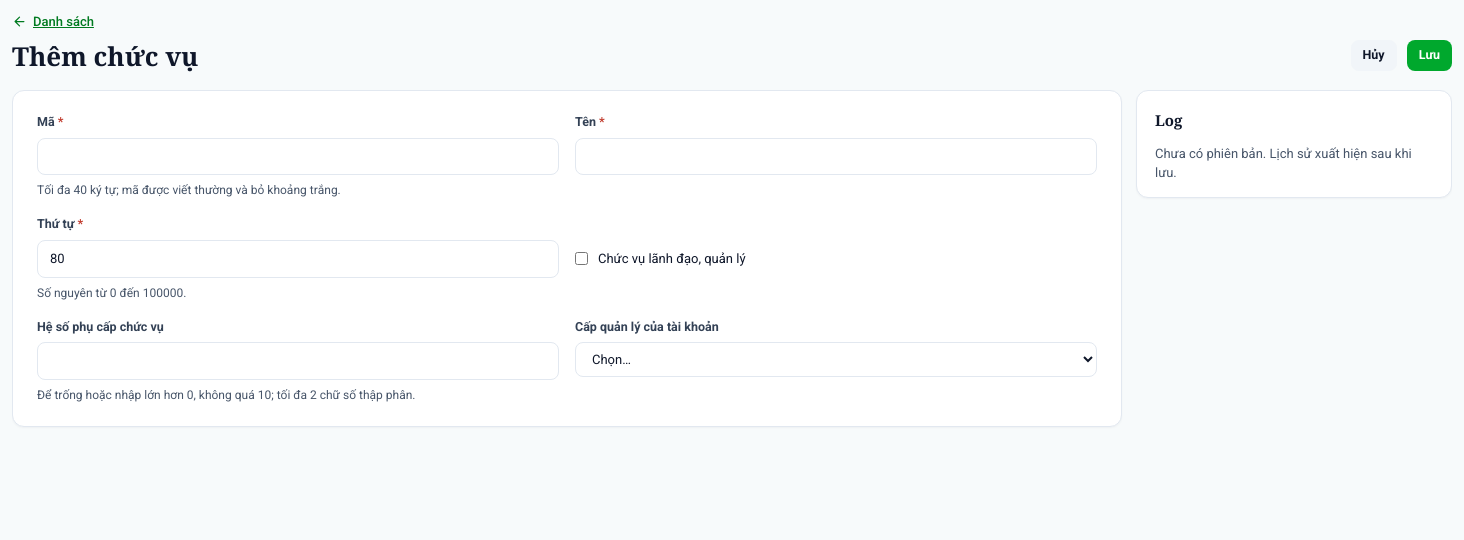
Test: FN-19: route thêm/sửa/chi tiết và quyền từ server › retry sau 500 dùng cùng khóa; lỗi theo trường server gắn vào ô
Type "moi" into the field labelled "Mã *".
click(298, 157); type("moi")  # box [37, 138, 559, 175]
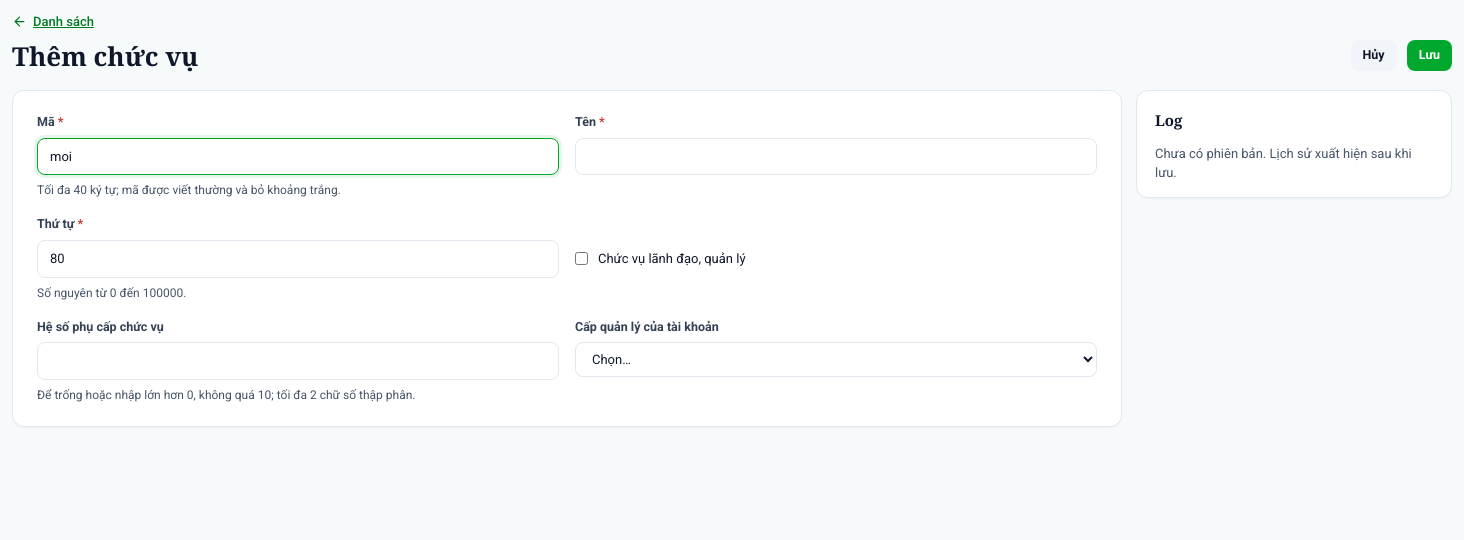
Type "Mục mới" into the field labelled "Tên *".
click(836, 157); type("Mục mới")  # box [575, 138, 1097, 175]
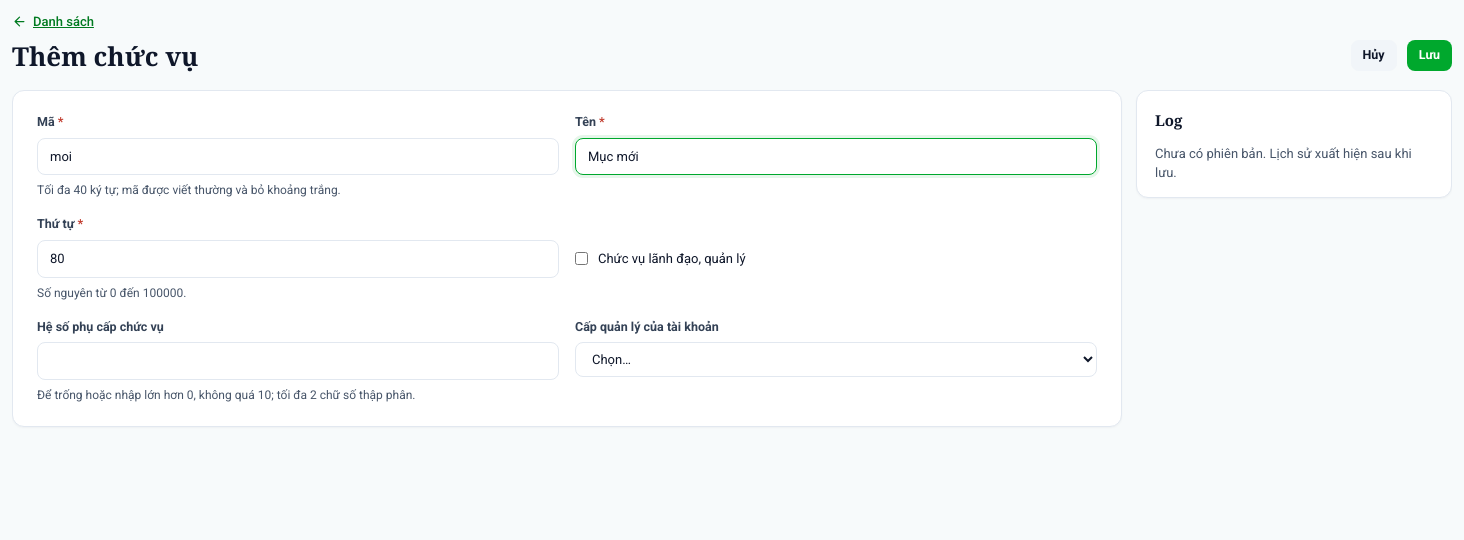
Click the button "Lưu".
click(1429, 56)  # box [1407, 40, 1452, 71]
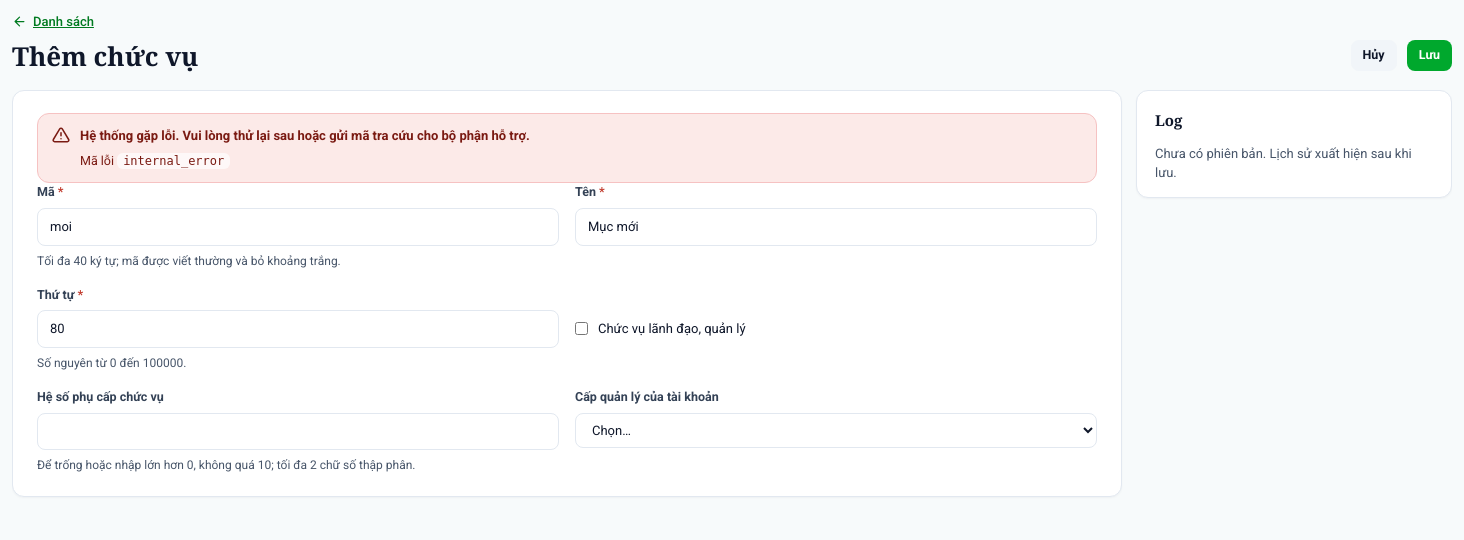
Click the button "Lưu".
click(1429, 56)  # box [1407, 40, 1452, 71]
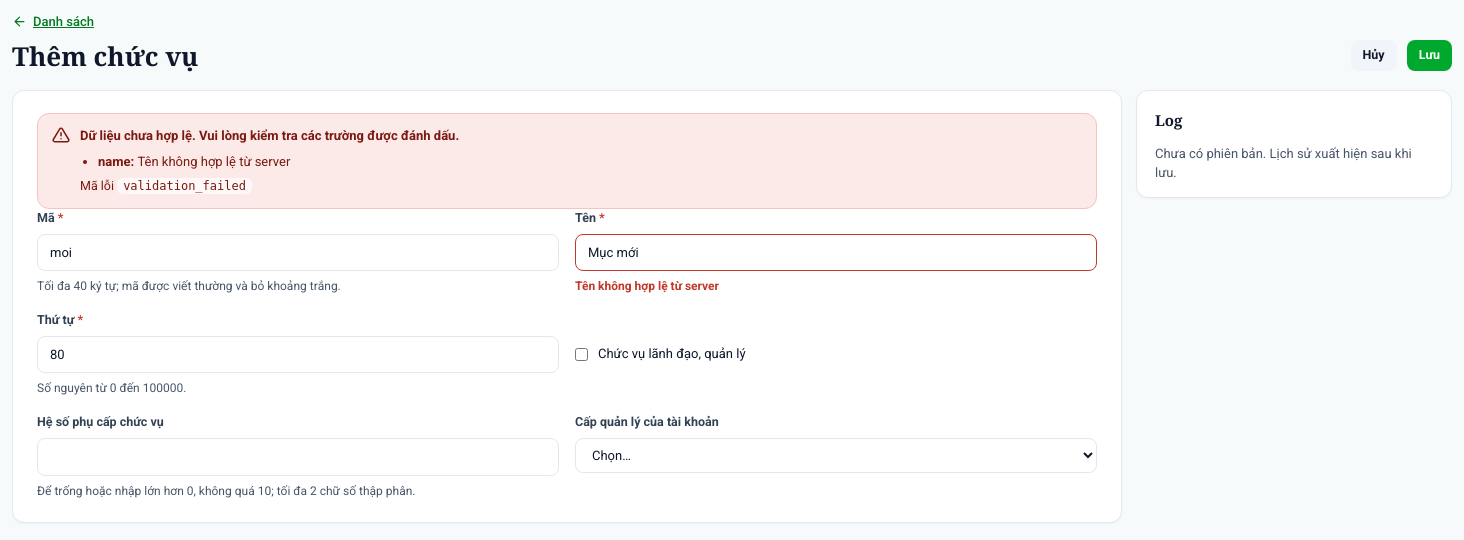
Check: the text "Tên không hợp lệ từ server" is shown, box [575, 279, 719, 293]
